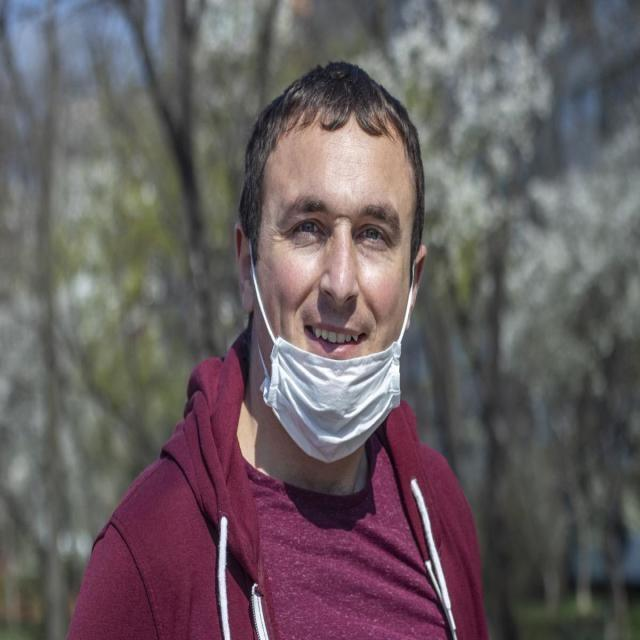hairnet: (231, 149, 424, 433)
